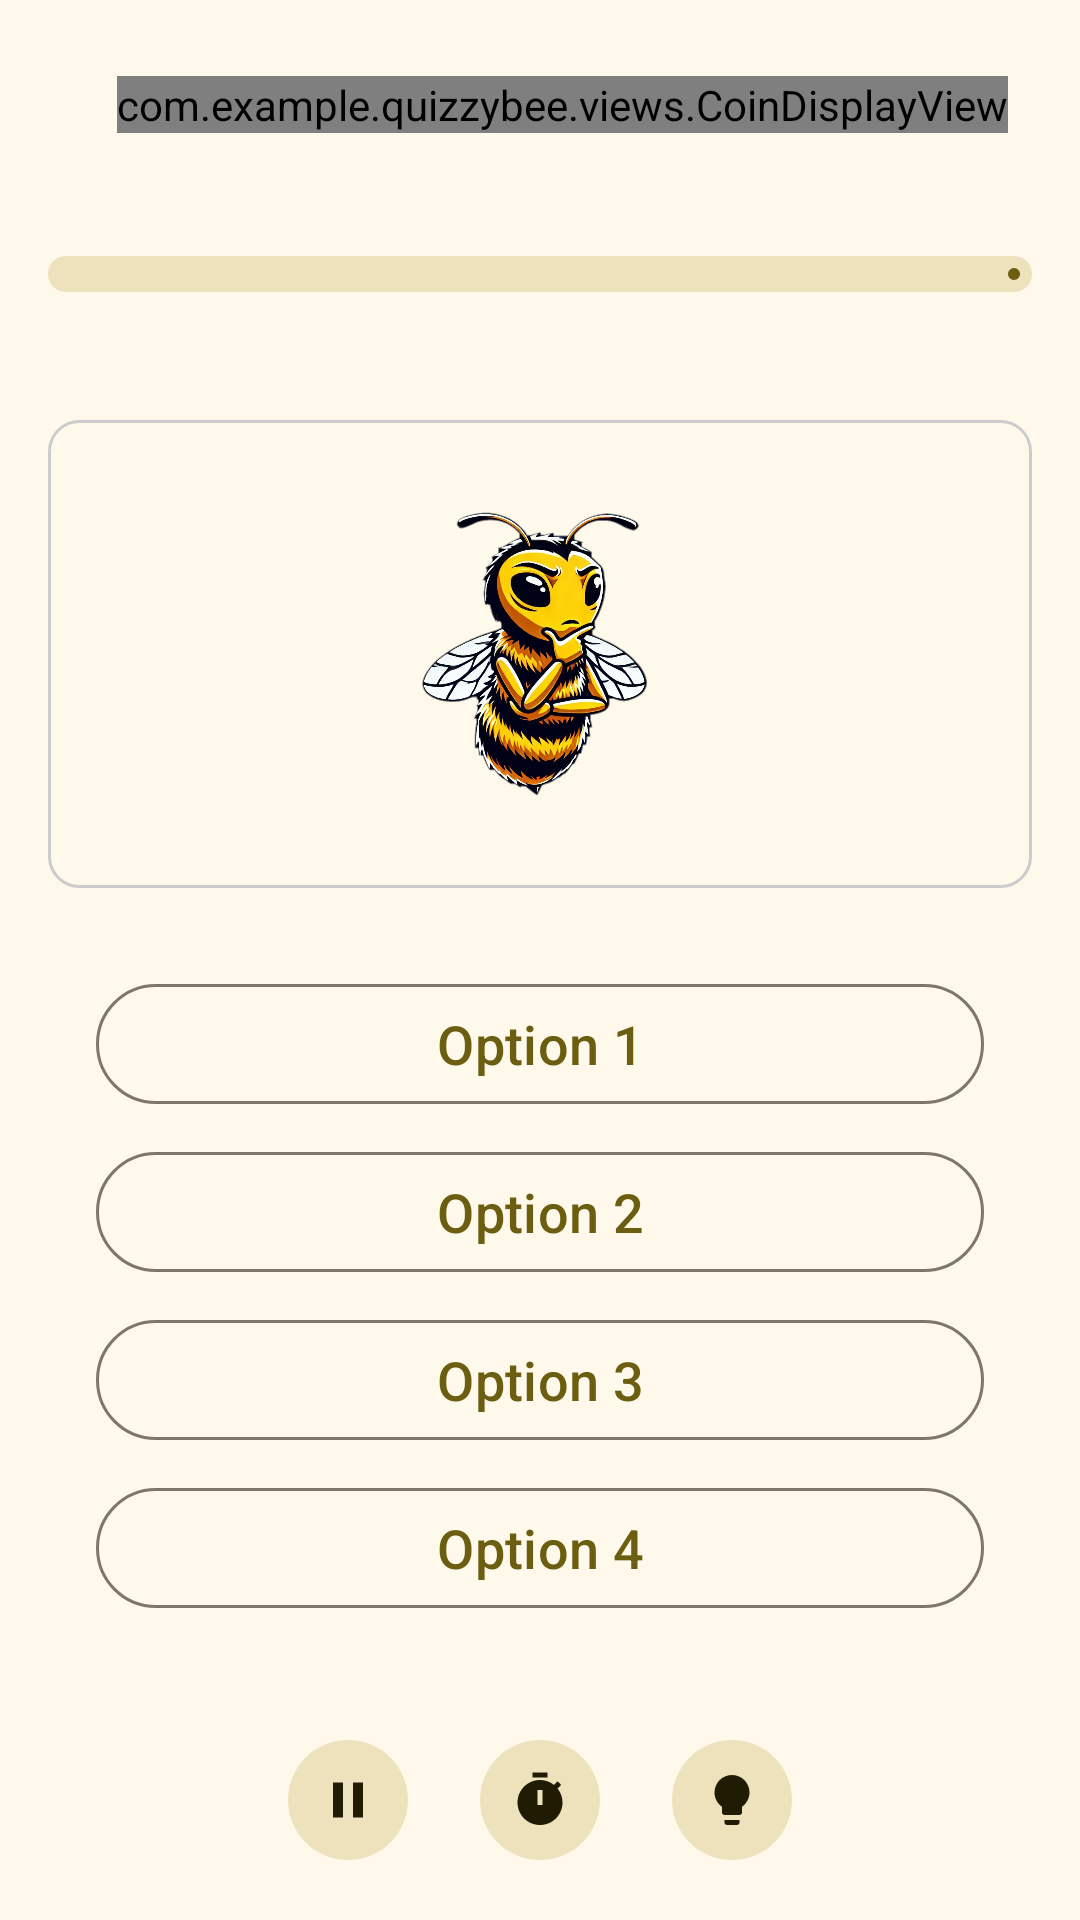

Named icons in this screenshot (1080×1920) and their bounding boxes, {"x1": x1, "y1": y1, "x2": x2, "y2": y2}:
bee think: {"x1": 422, "y1": 512, "x2": 647, "y2": 795}
hint icon: {"x1": 672, "y1": 1740, "x2": 792, "y2": 1860}
pause: {"x1": 288, "y1": 1740, "x2": 408, "y2": 1860}
timer: {"x1": 480, "y1": 1740, "x2": 600, "y2": 1860}
